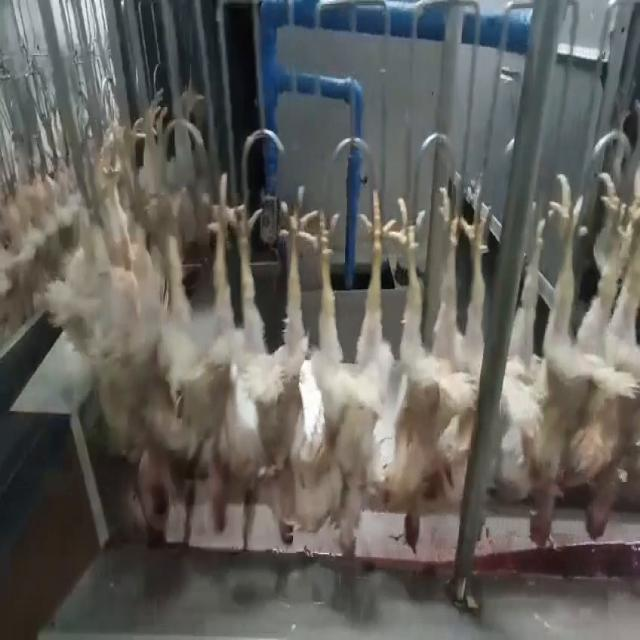chicken: (385, 180, 492, 558), (220, 168, 323, 552), (128, 180, 226, 544), (510, 170, 594, 550), (317, 168, 394, 568), (572, 170, 639, 540)
